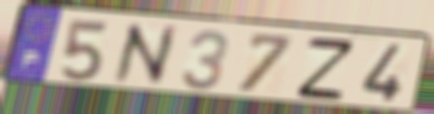3: (180, 28, 230, 92)
4: (359, 43, 405, 105)
5: (56, 16, 115, 84)
7: (235, 32, 295, 96)
N: (110, 21, 179, 87)
Z: (294, 36, 358, 102)
